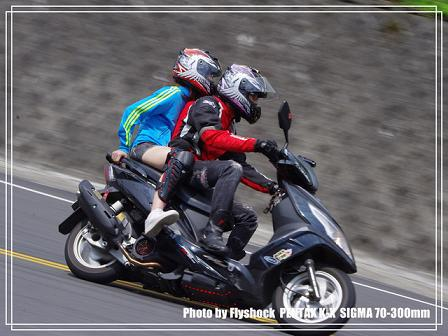helmet: (225, 61, 274, 121), (175, 45, 225, 87)
